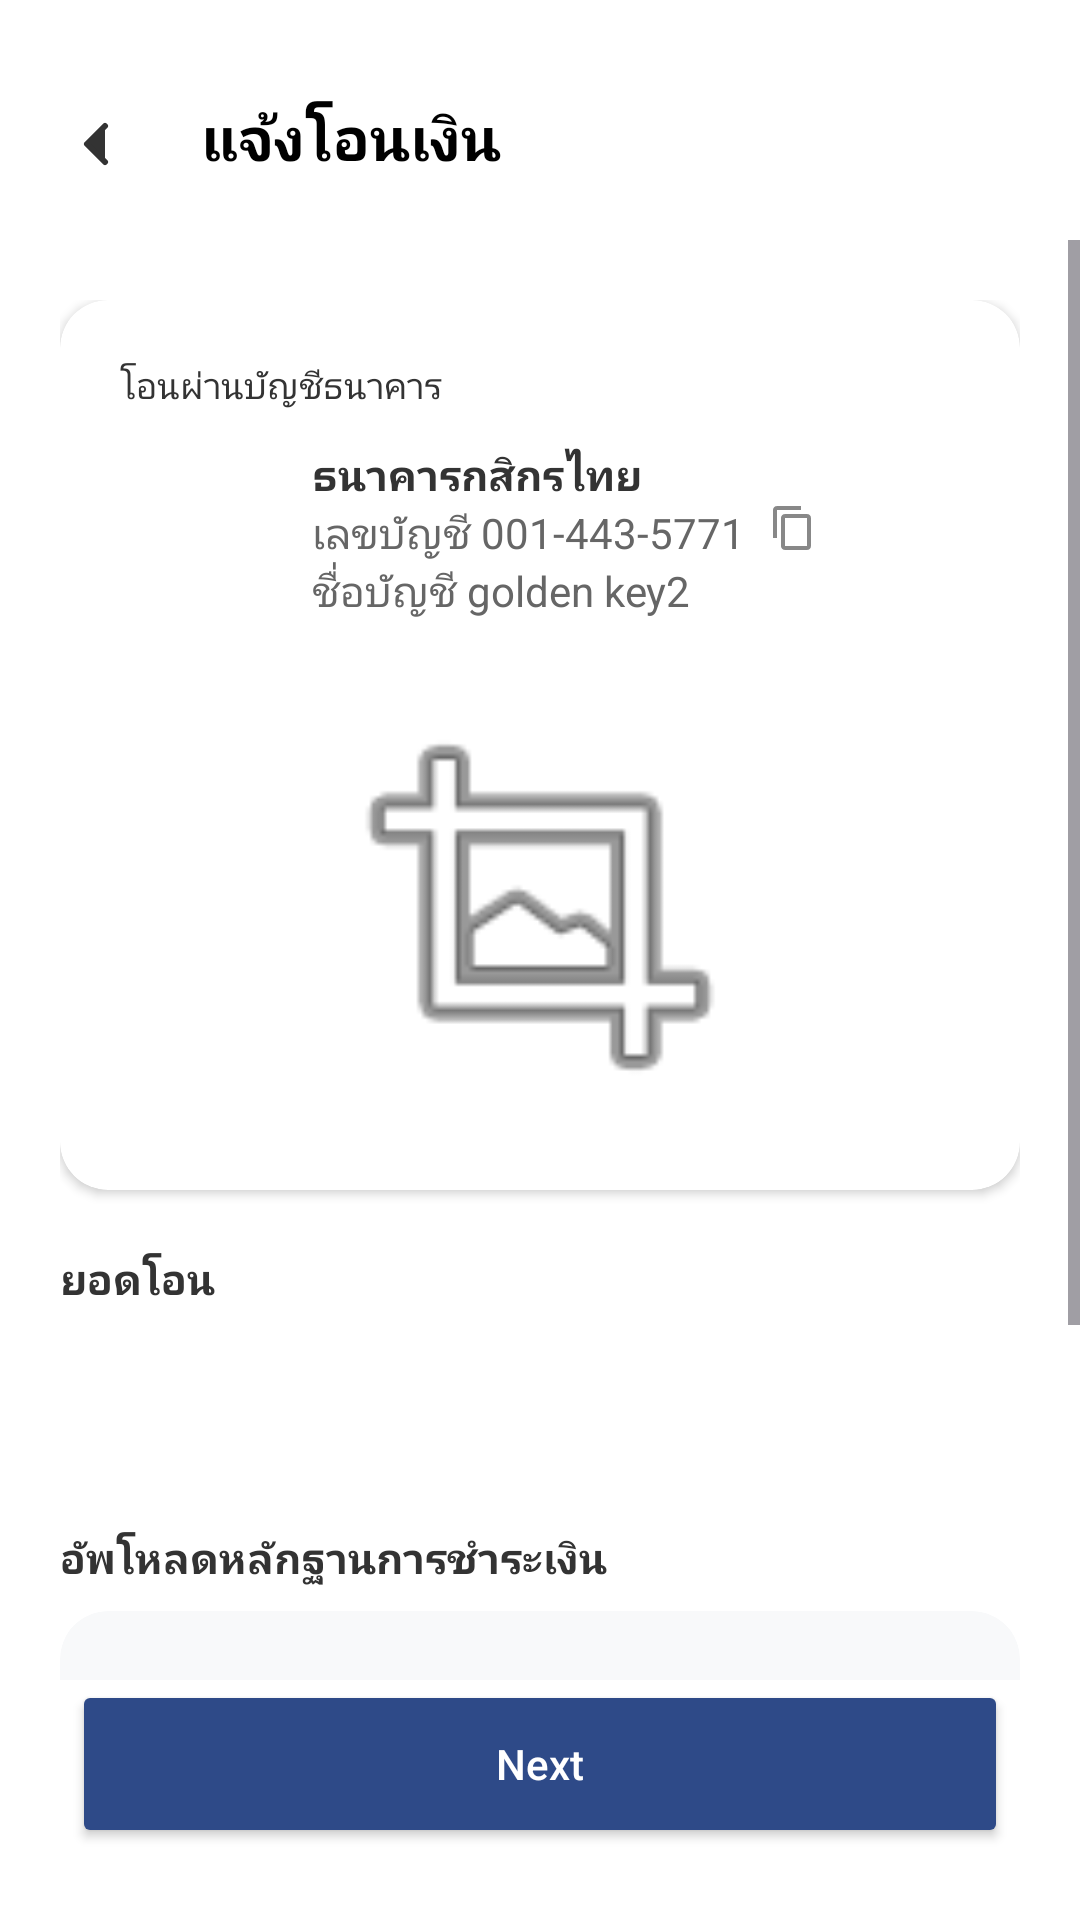

Named icons in this screenshot (1080px x 1920px) and their bounding boxes, bbox=[x1, y1, x2, y2]:
back gg: bbox=[84, 123, 108, 165]
crop: bbox=[368, 744, 712, 1070]
